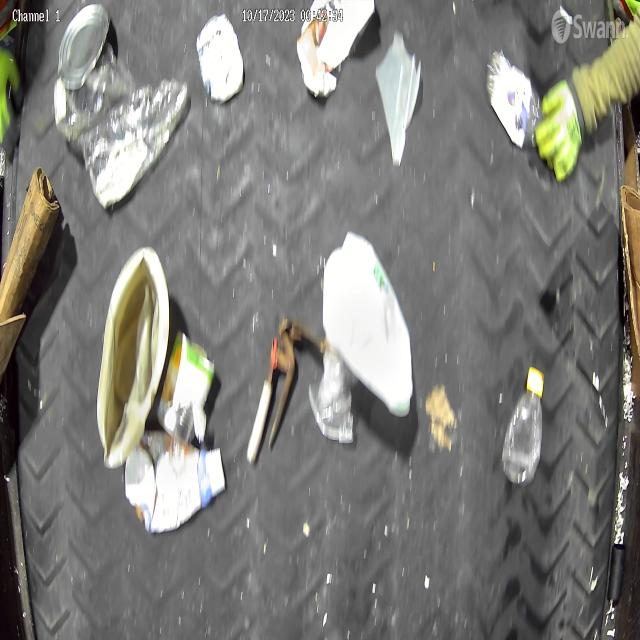can: (157, 330, 216, 446), (196, 12, 245, 105), (56, 3, 110, 87)
milk_jug: (321, 230, 415, 418)
plastic_bottle: (80, 79, 191, 207), (501, 369, 546, 489), (488, 51, 542, 149)
